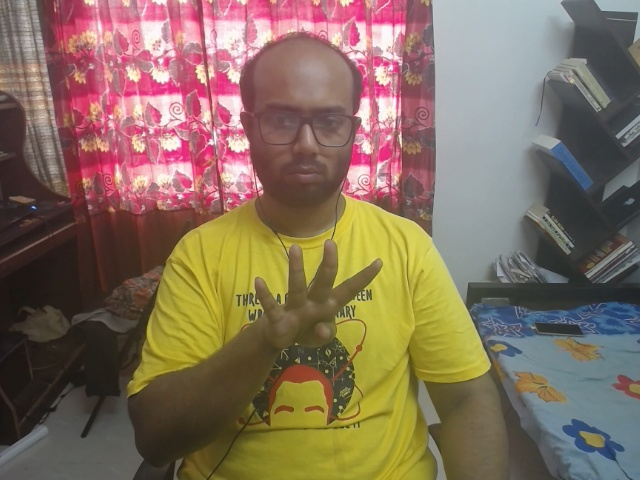four: (241, 233, 390, 360)
